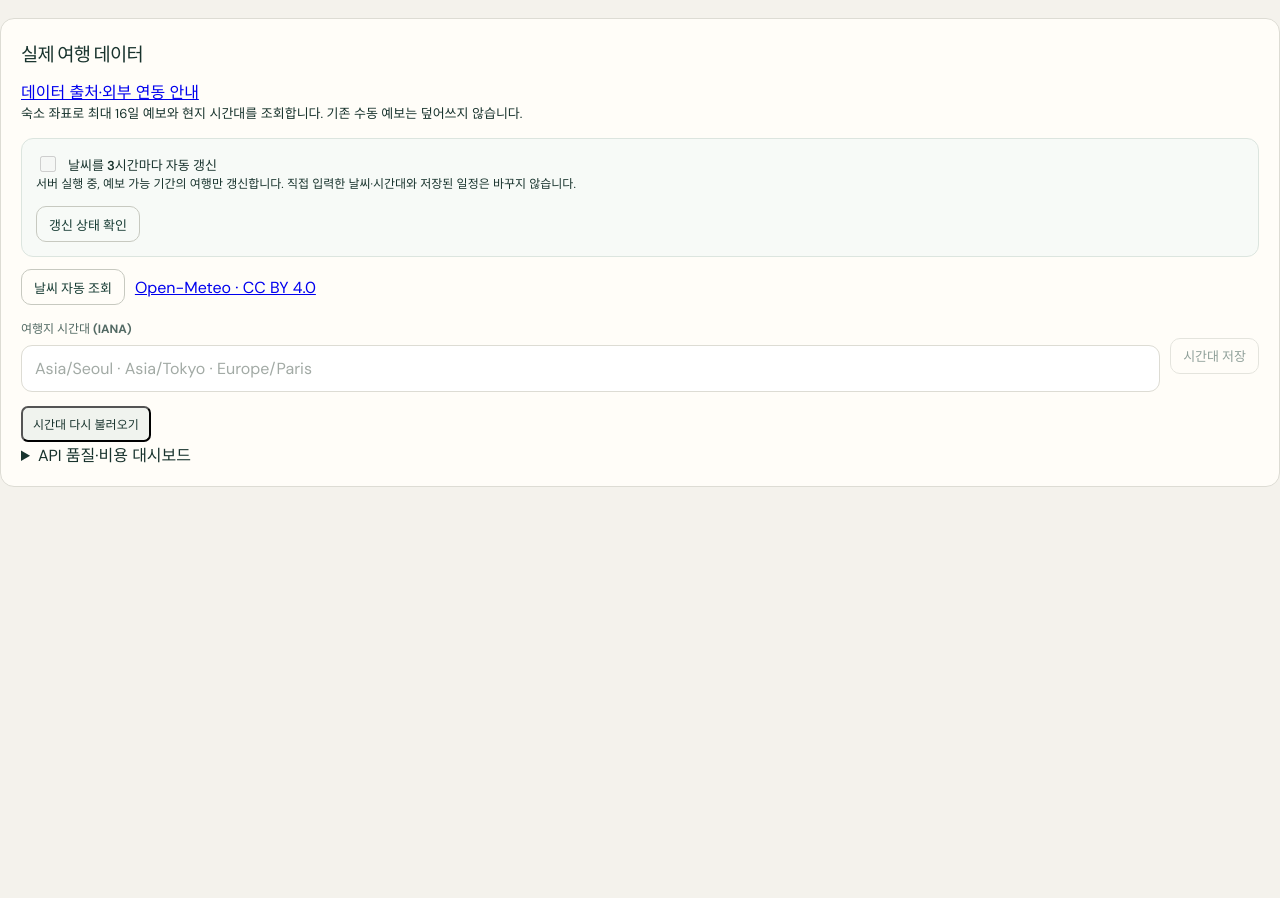
Test case: live data and community › shows durable API limits, quality and configured cost estimates
Click the heading "API 품질·비용 대시보드" at (114, 456), box [38,445,191,466]
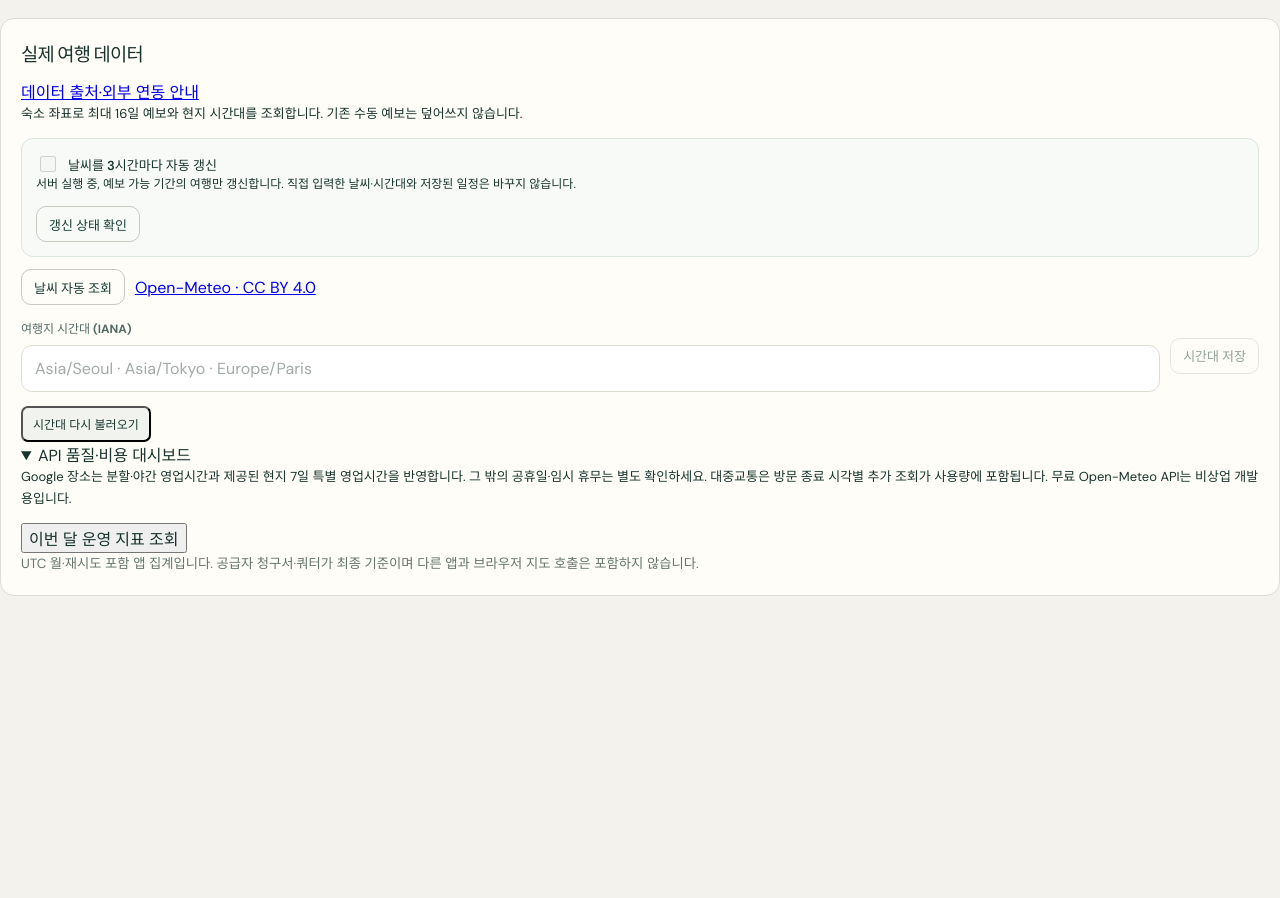
Click the button "이번 달 운영 지표 조회" at (104, 538), box [21,524,186,554]
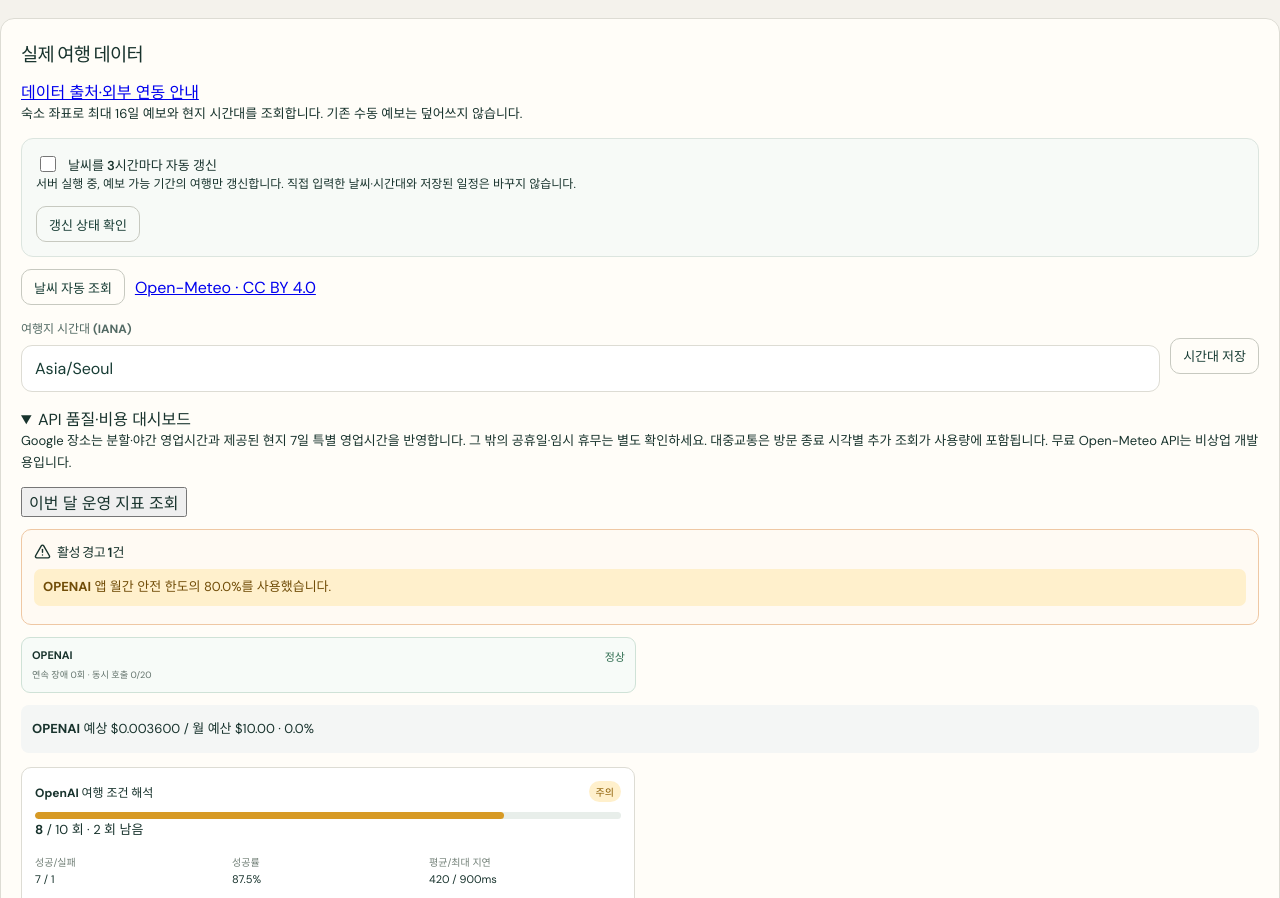
Expected: the text "OpenAI 여행 조건 해석" is shown, [35,783,153,801]
Expected: the text "주의" is shown, [589,781,621,802]
Expected: the heading "활성 경고 1건" is shown, [34,544,124,562]
